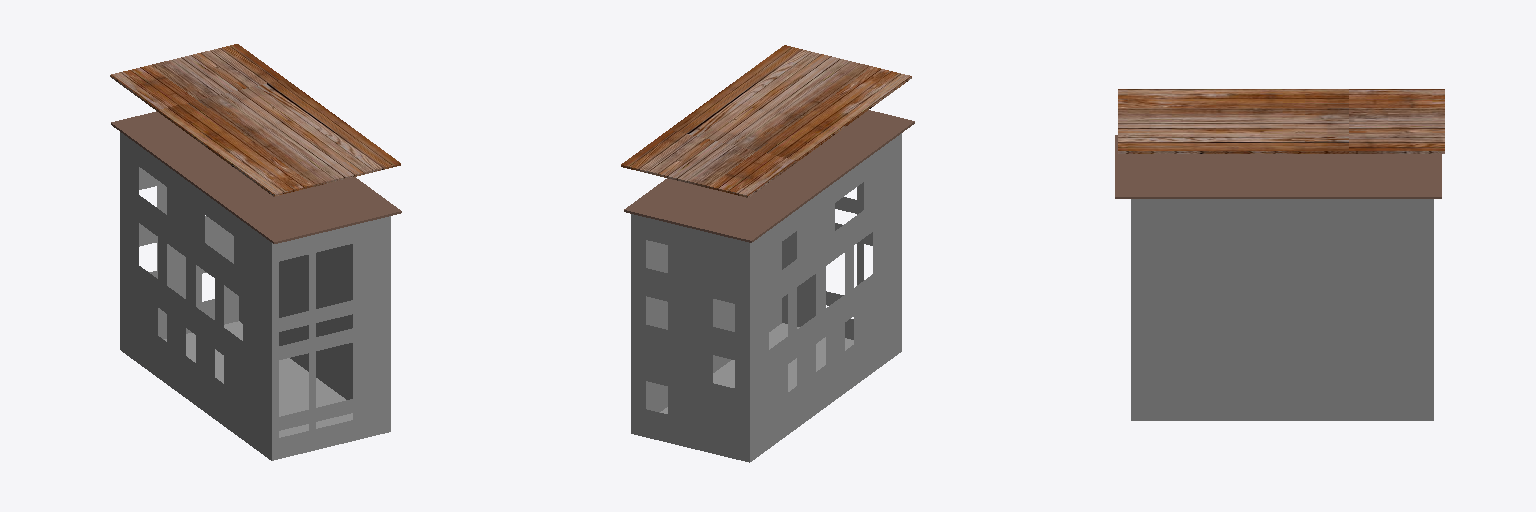
3 renders of one model, left to right at view 1: azimuth 30°, elevation 25°; view 2: azimuth 150°, elevation 25°; view 3: azimuth 270°, elevation 25°, orthographic.
Bounding box in the file's own units: 2.81 × 5.68 × 6.25.
2 materials, 1 textured.